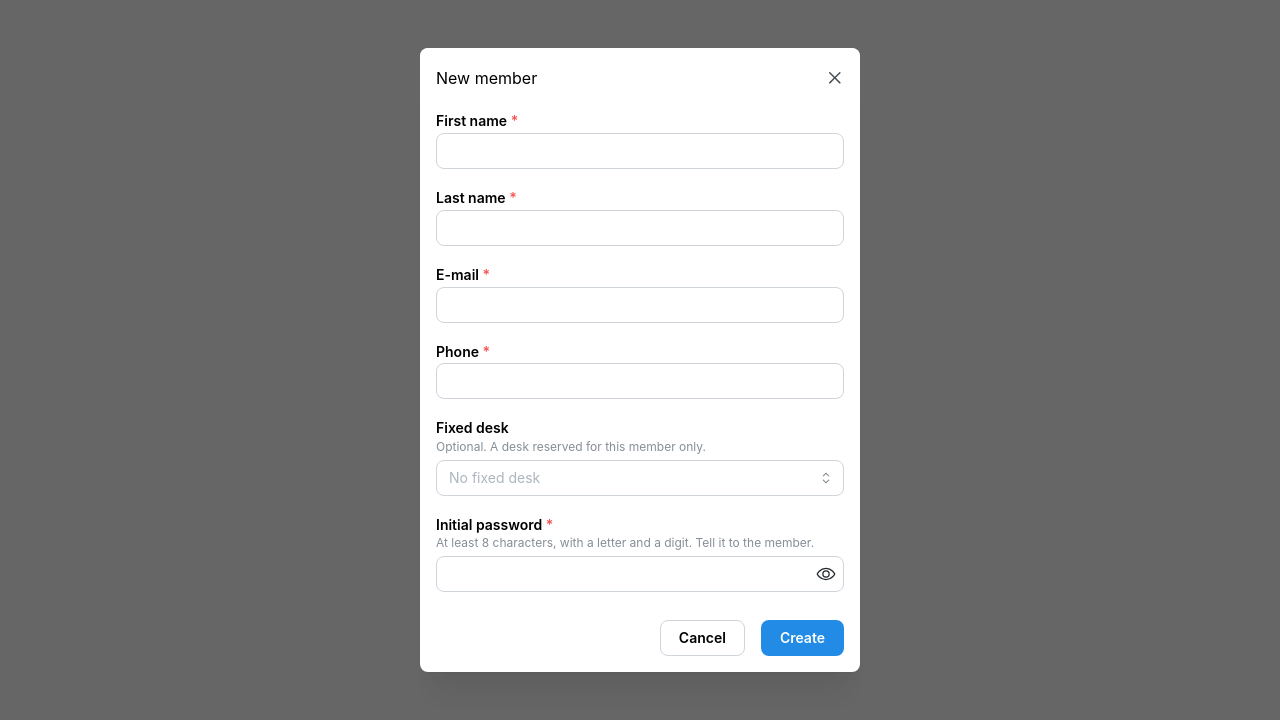
Test: MemberFormModal › shows a taken e-mail next to the e-mail field
This screenshot has width=1280, height=720.
Type "Lejla" into the field labelled "First name *".
click(640, 151); type("Lejla")  # box [436, 133, 844, 169]
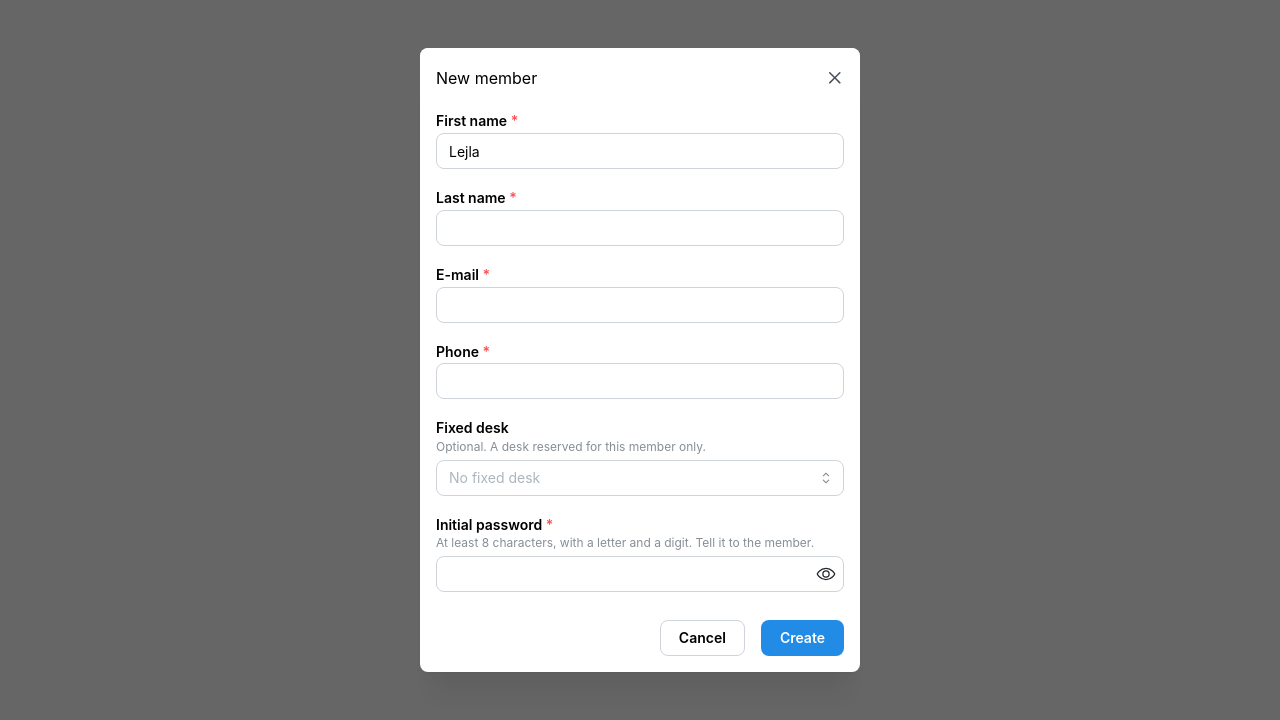
Type "Begić" into the field labelled "Last name *".
click(640, 228); type("Begić")  # box [436, 210, 844, 246]
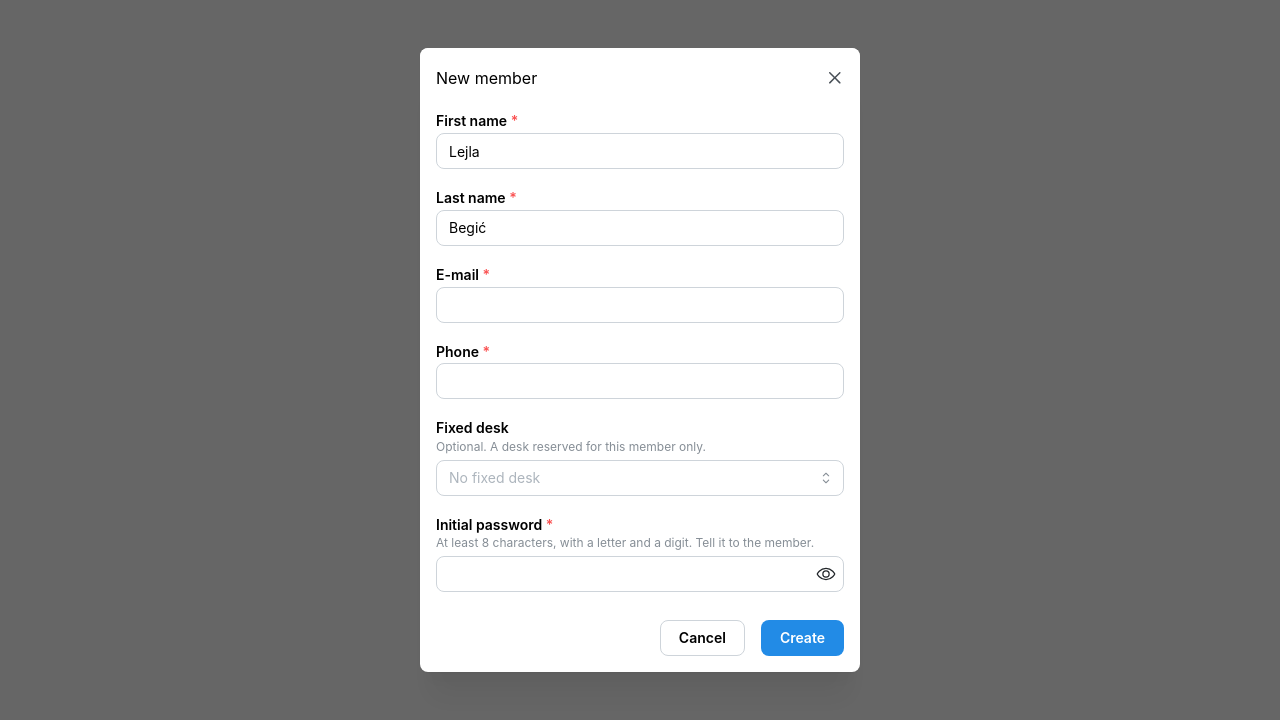
Type "lejla@example.com" into the field labelled "E-mail *".
click(640, 305); type("lejla@example.com")  # box [436, 287, 844, 323]
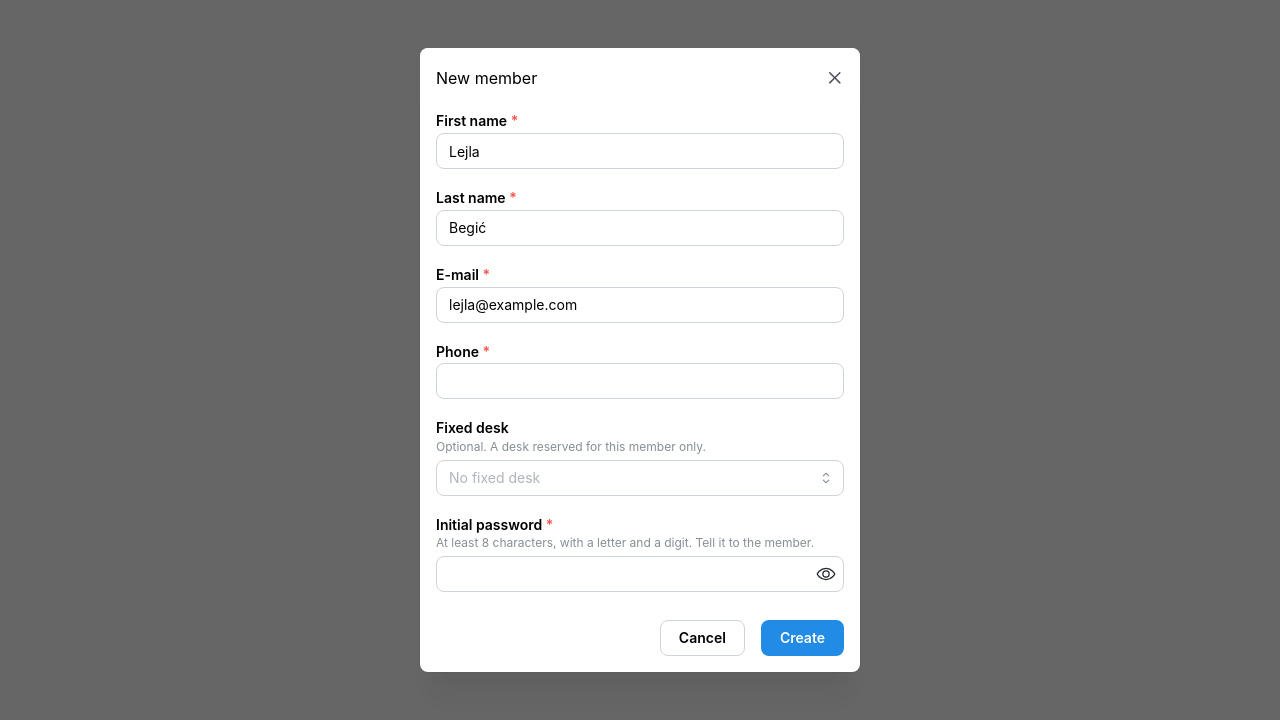
Type "061/222-333" into the field labelled "Phone *".
click(640, 381); type("061/222-333")  # box [436, 363, 844, 399]
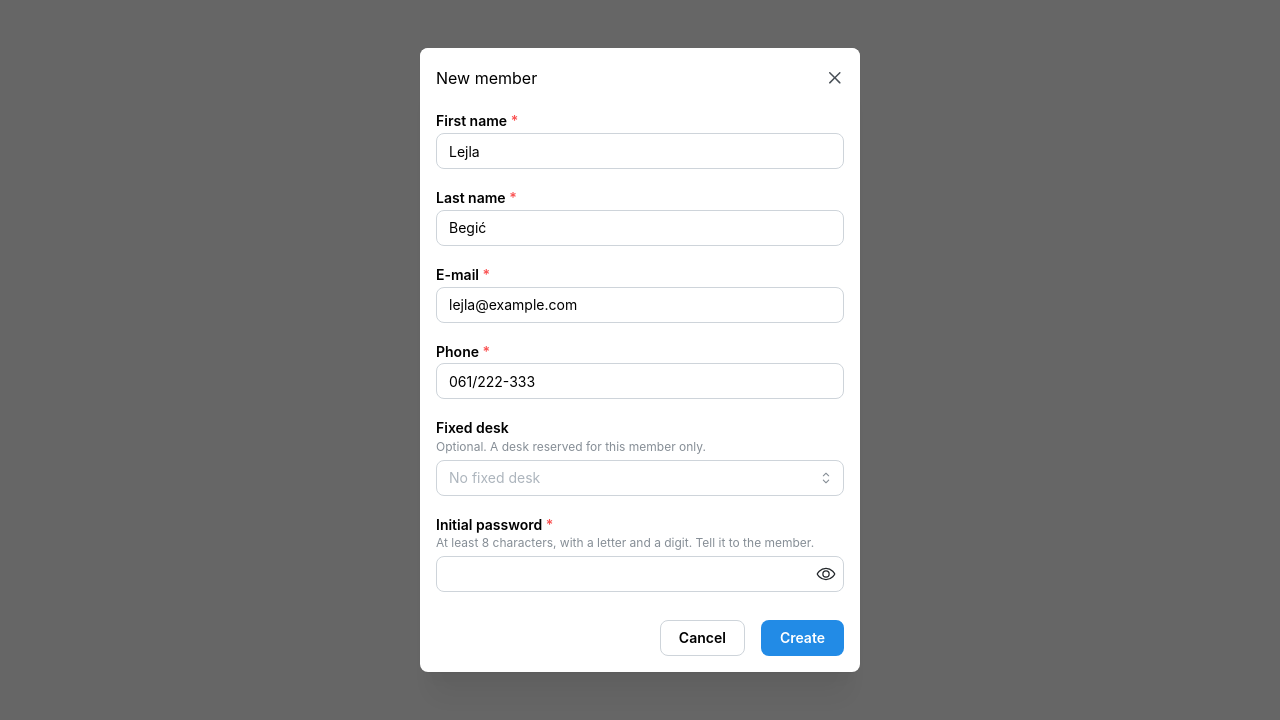
Type "Coworking123" into the password field labelled "Initial password *".
click(640, 574); type("Coworking123")  # box [437, 557, 843, 591]
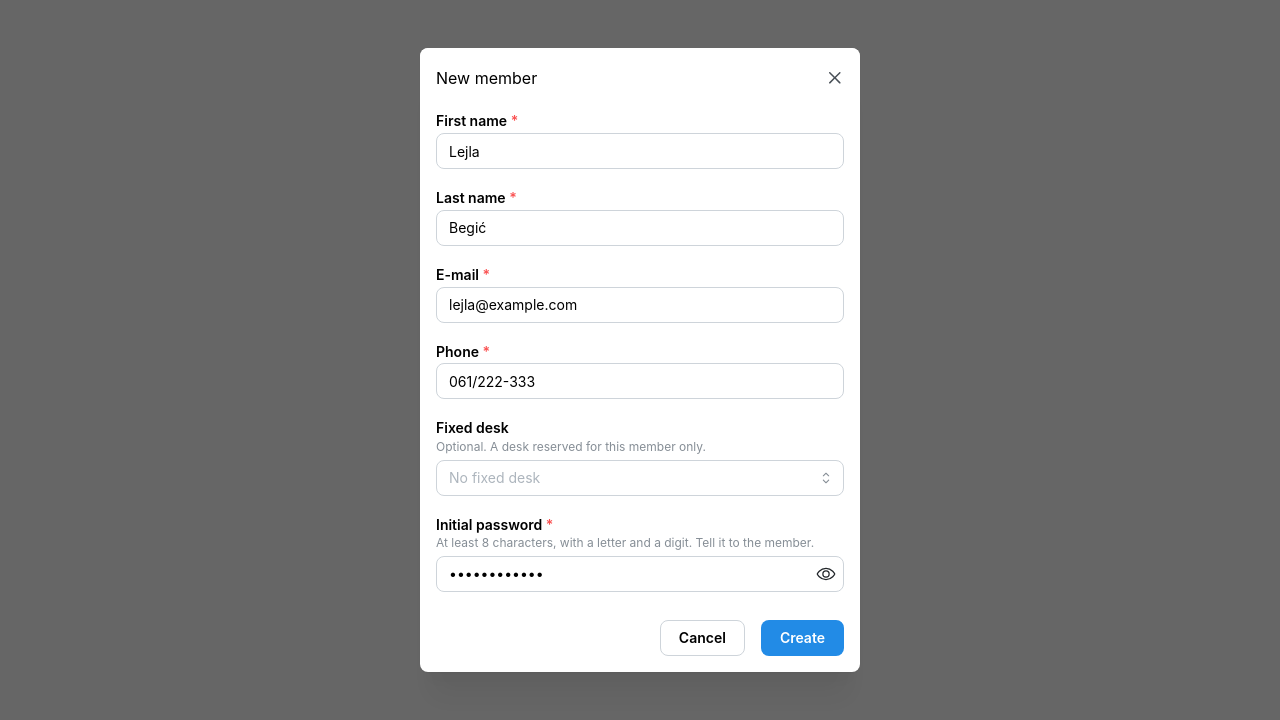
Click the button "Create".
click(802, 638)  # box [761, 620, 844, 656]
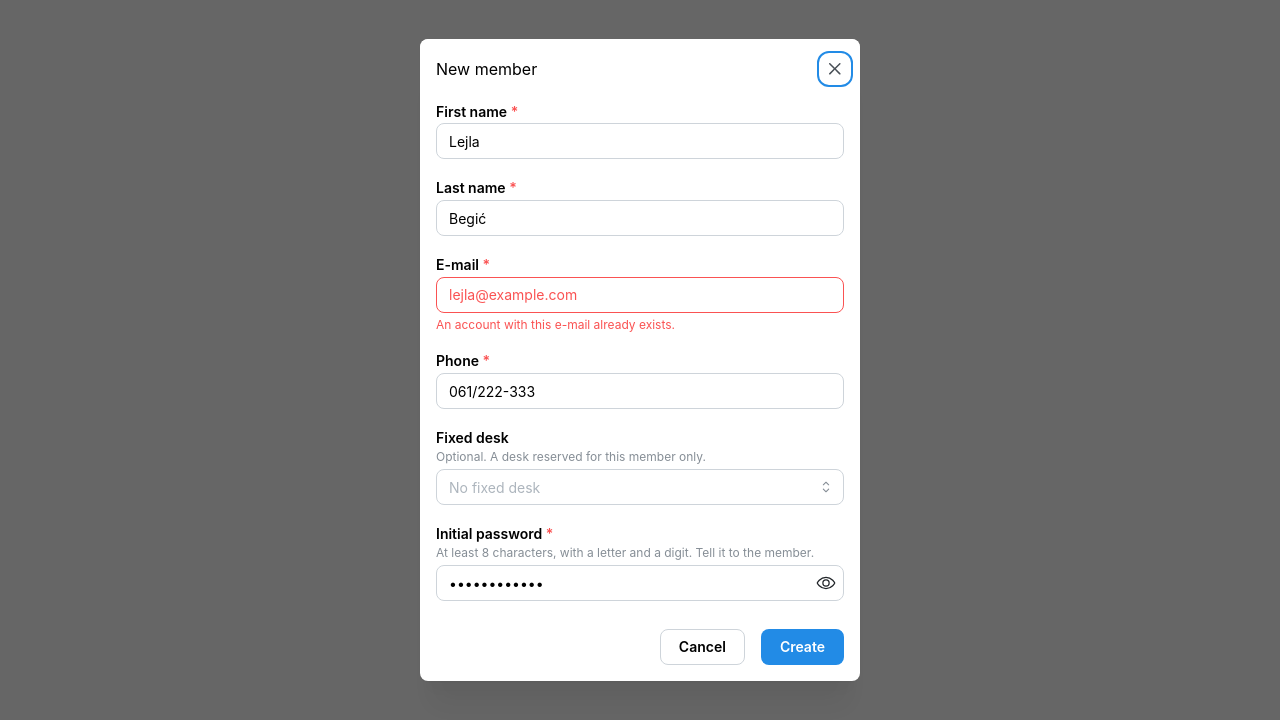
Expected: the text "An account with this e-mail already exists." is shown, [436, 317, 675, 332]
